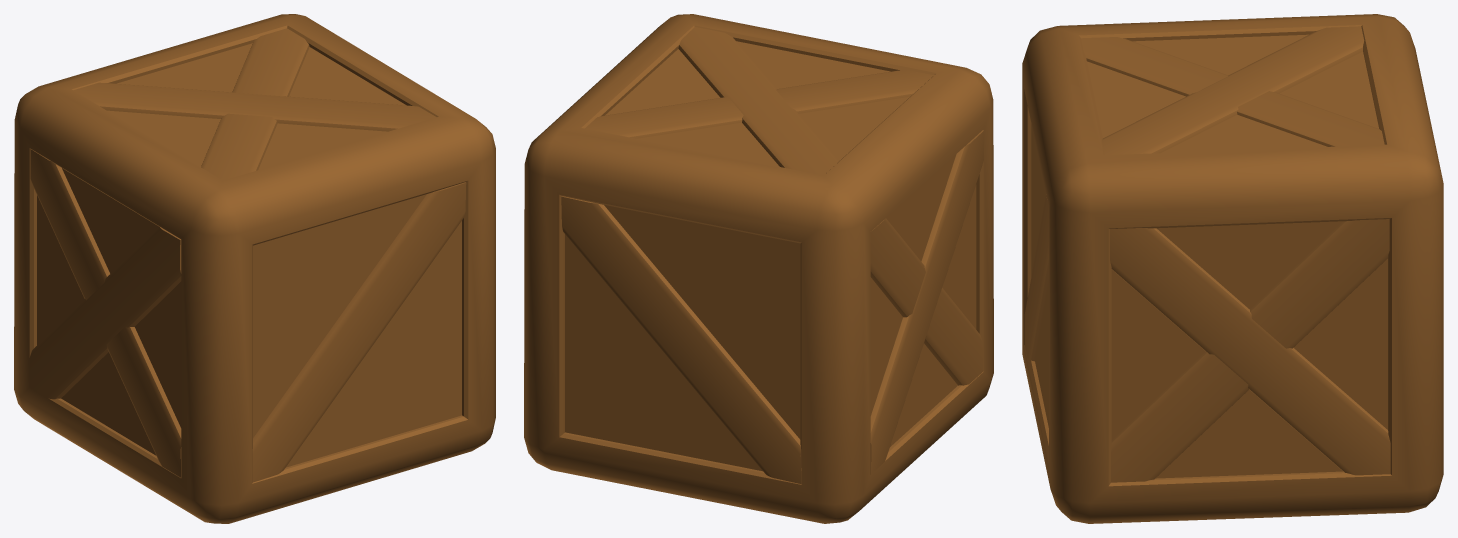
3 renders of one model, left to right at view 1: azimuth 30°, elevation 25°; view 2: azimuth 150°, elevation 25°; view 3: azimuth 270°, elevation 25°, orthographic. The views are drawn at different scales.
Parts seen in each view (by area): view 1: Cube.011; view 2: Cube.011; view 3: Cube.011.
Part boxes in pixels (box(x1,y1,x2,y2)): Cube.011: box(14, 14, 495, 523); Cube.011: box(524, 14, 993, 523); Cube.011: box(1022, 14, 1443, 523).
Bounding box in the file's own units: 0.8908 × 0.835 × 0.8908.
